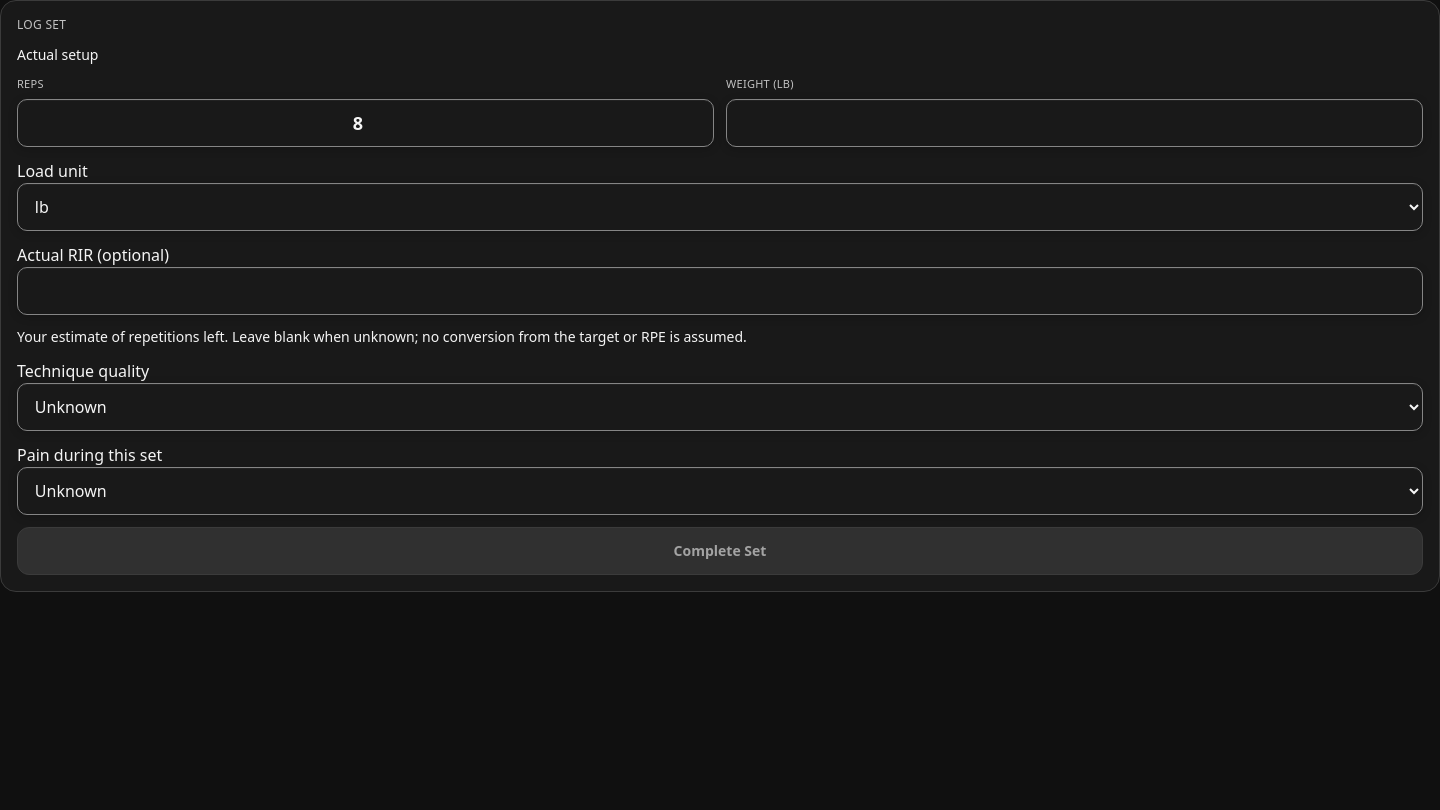
Scenario: Customized records explicit RIR, technique and pain without rounding real pound loads
This screenshot has width=1440, height=810.
Expected: the number field labelled "Actual RIR (optional)" is not empty, [17,267,1423,315]
In the number field labelled "Weight (lb)": coordinates (1074, 123) [726,99,1423,147], type "11"
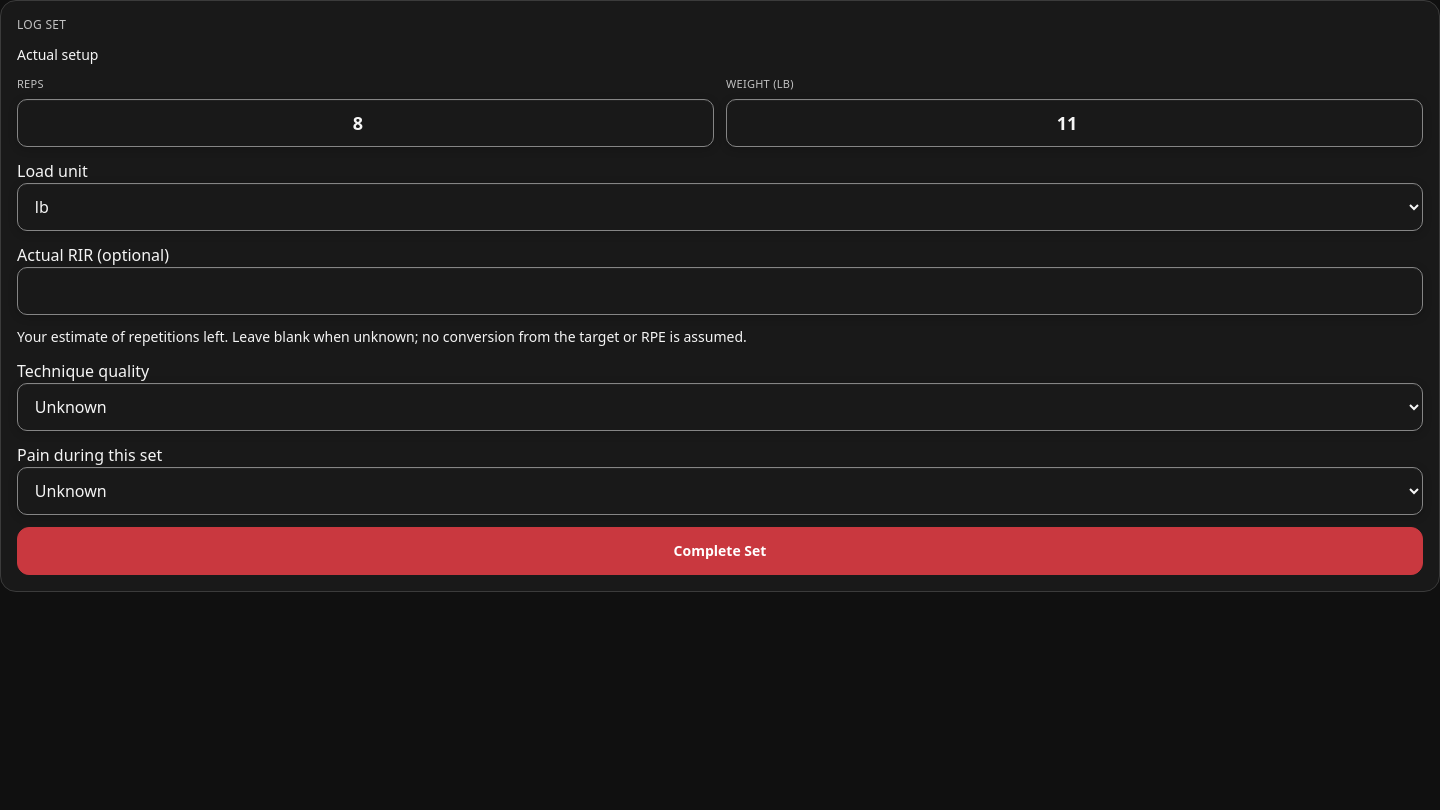
In the number field labelled "Actual RIR (optional)": coordinates (720, 291) [17,267,1423,315], type "5"
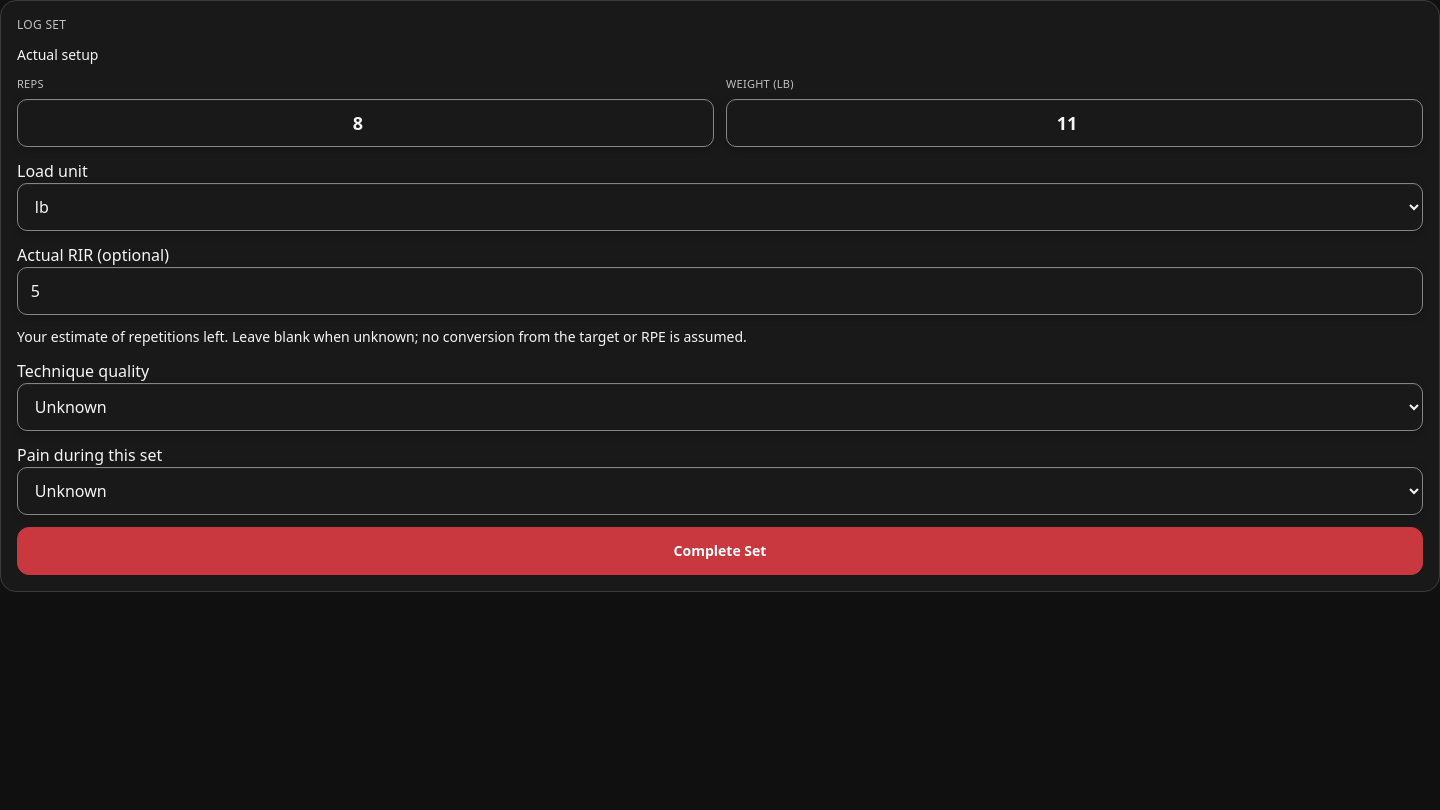
Select "Acceptable for this recorded setup" in the dropdown labelled "Technique quality": coordinates (720, 407) [17,383,1423,431]
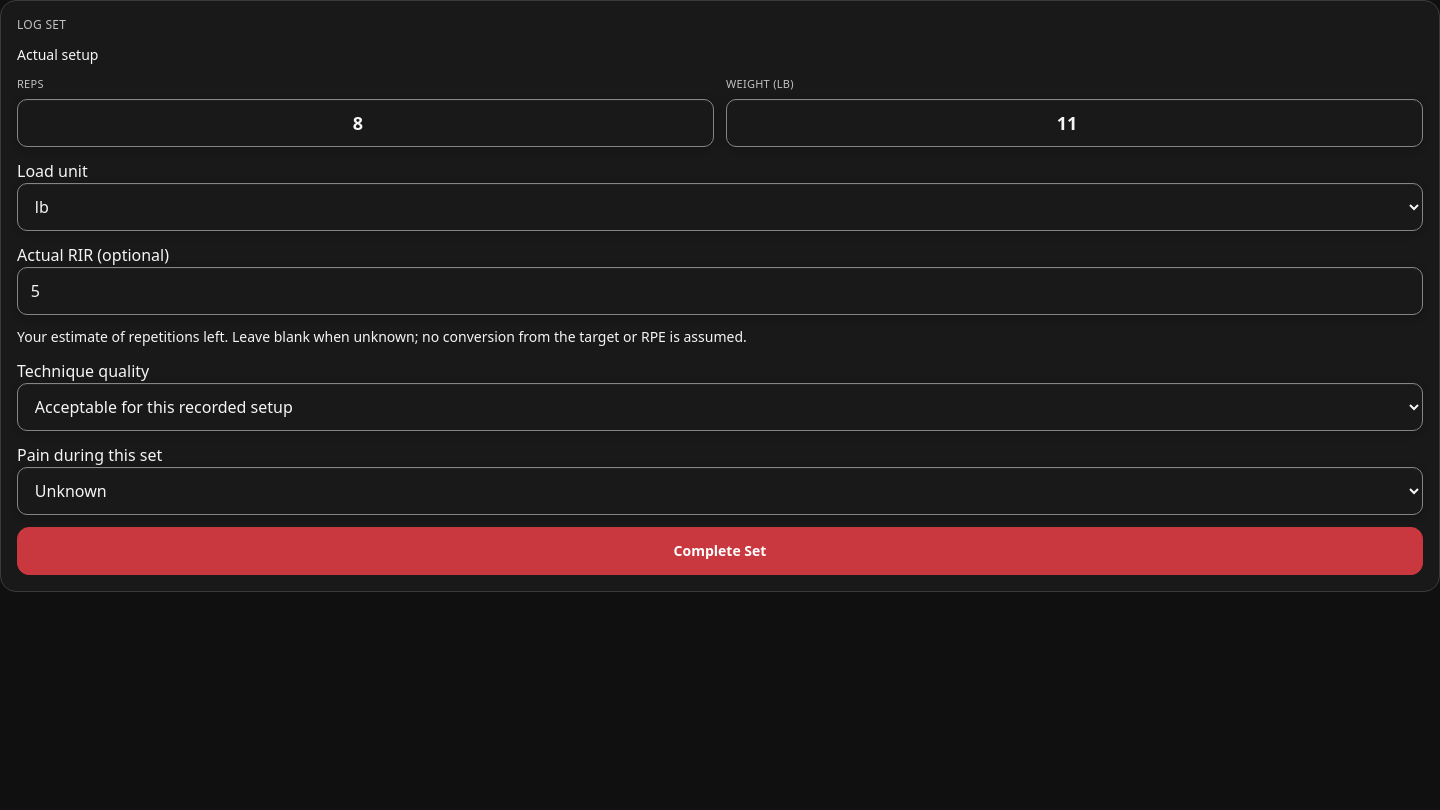
Select "No pain reported" in the dropdown labelled "Pain during this set": coordinates (720, 491) [17,467,1423,515]
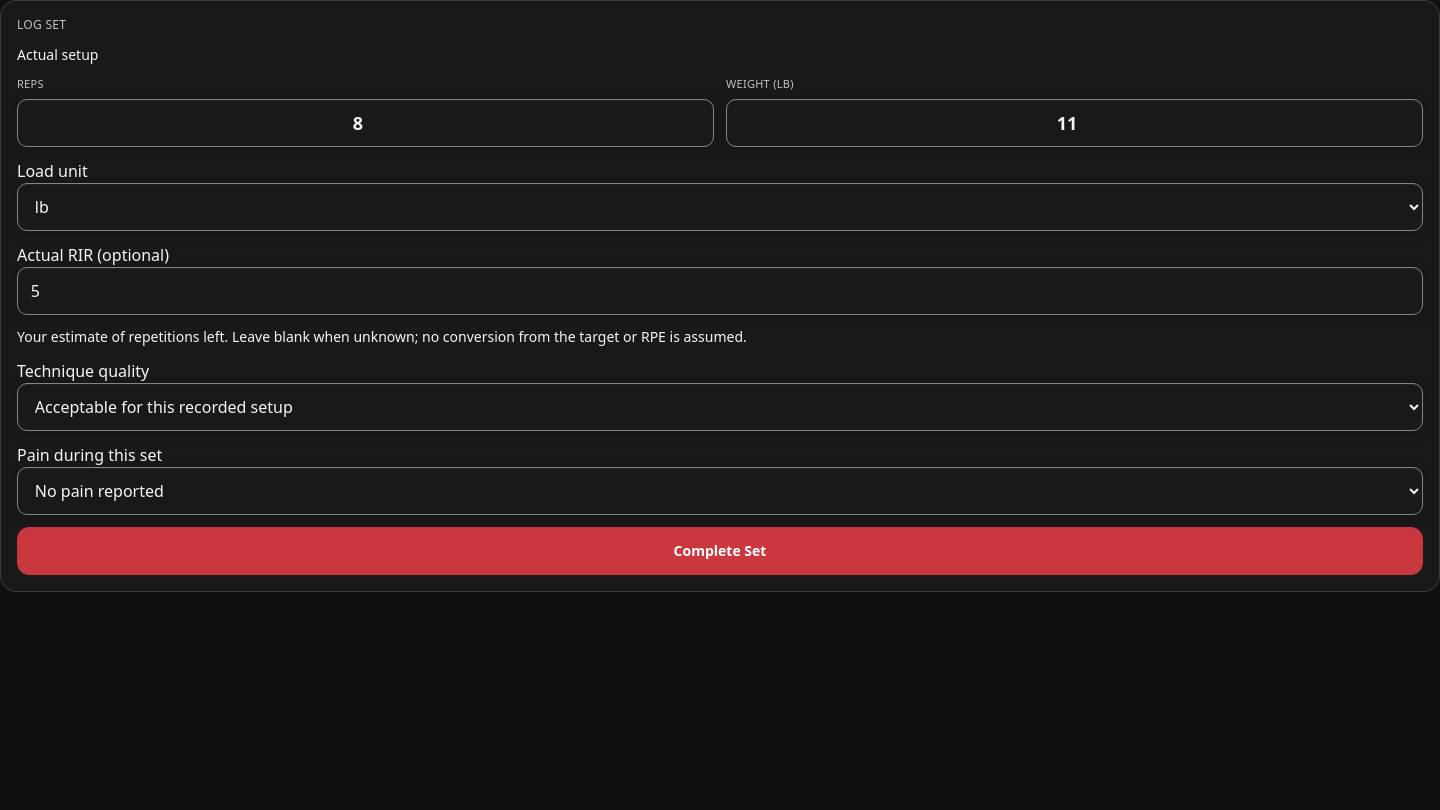
Click the button "Complete Set": coordinates (720, 551) [17,527,1423,575]
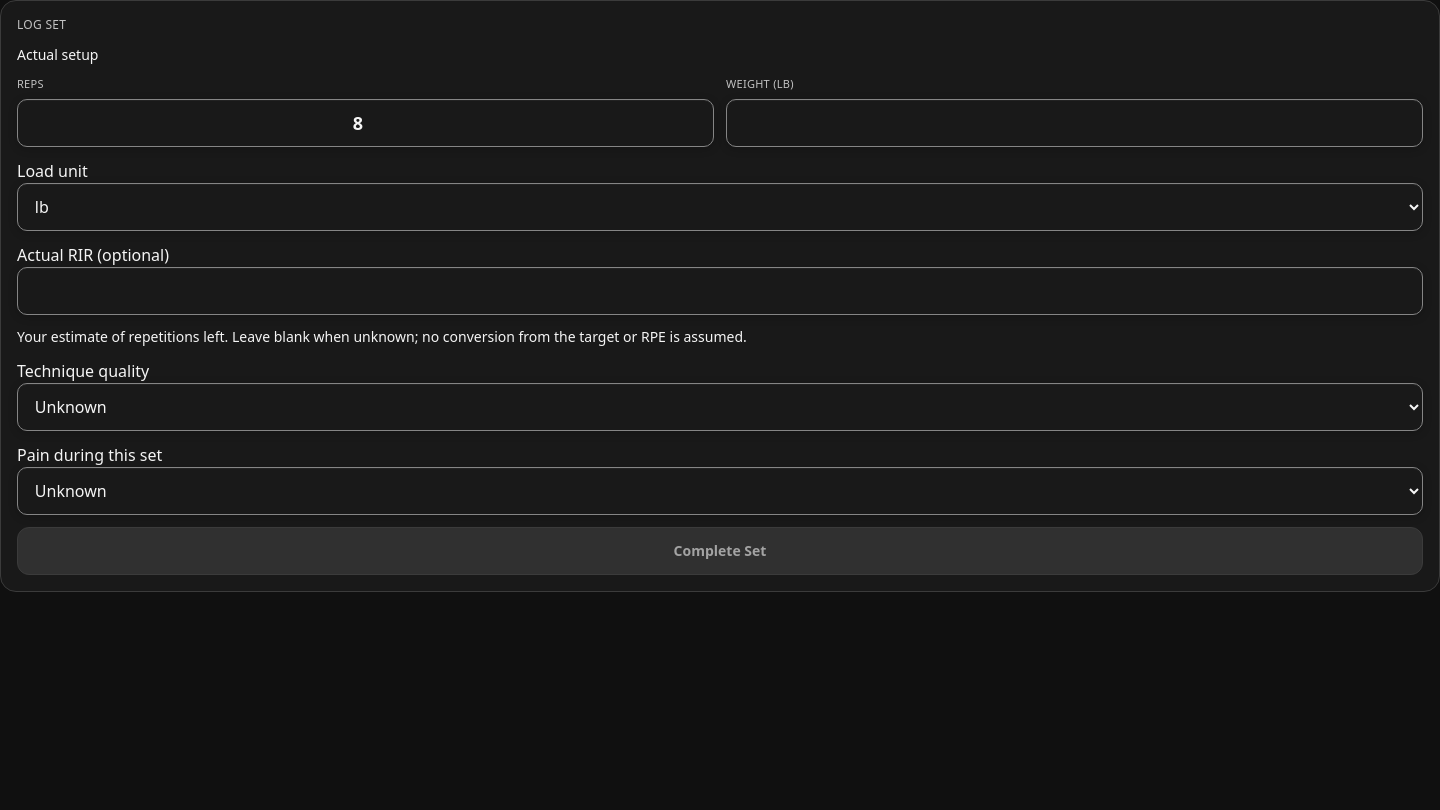
Expected: the number field labelled "Actual RIR (optional)" is not empty, [17,267,1423,315]
